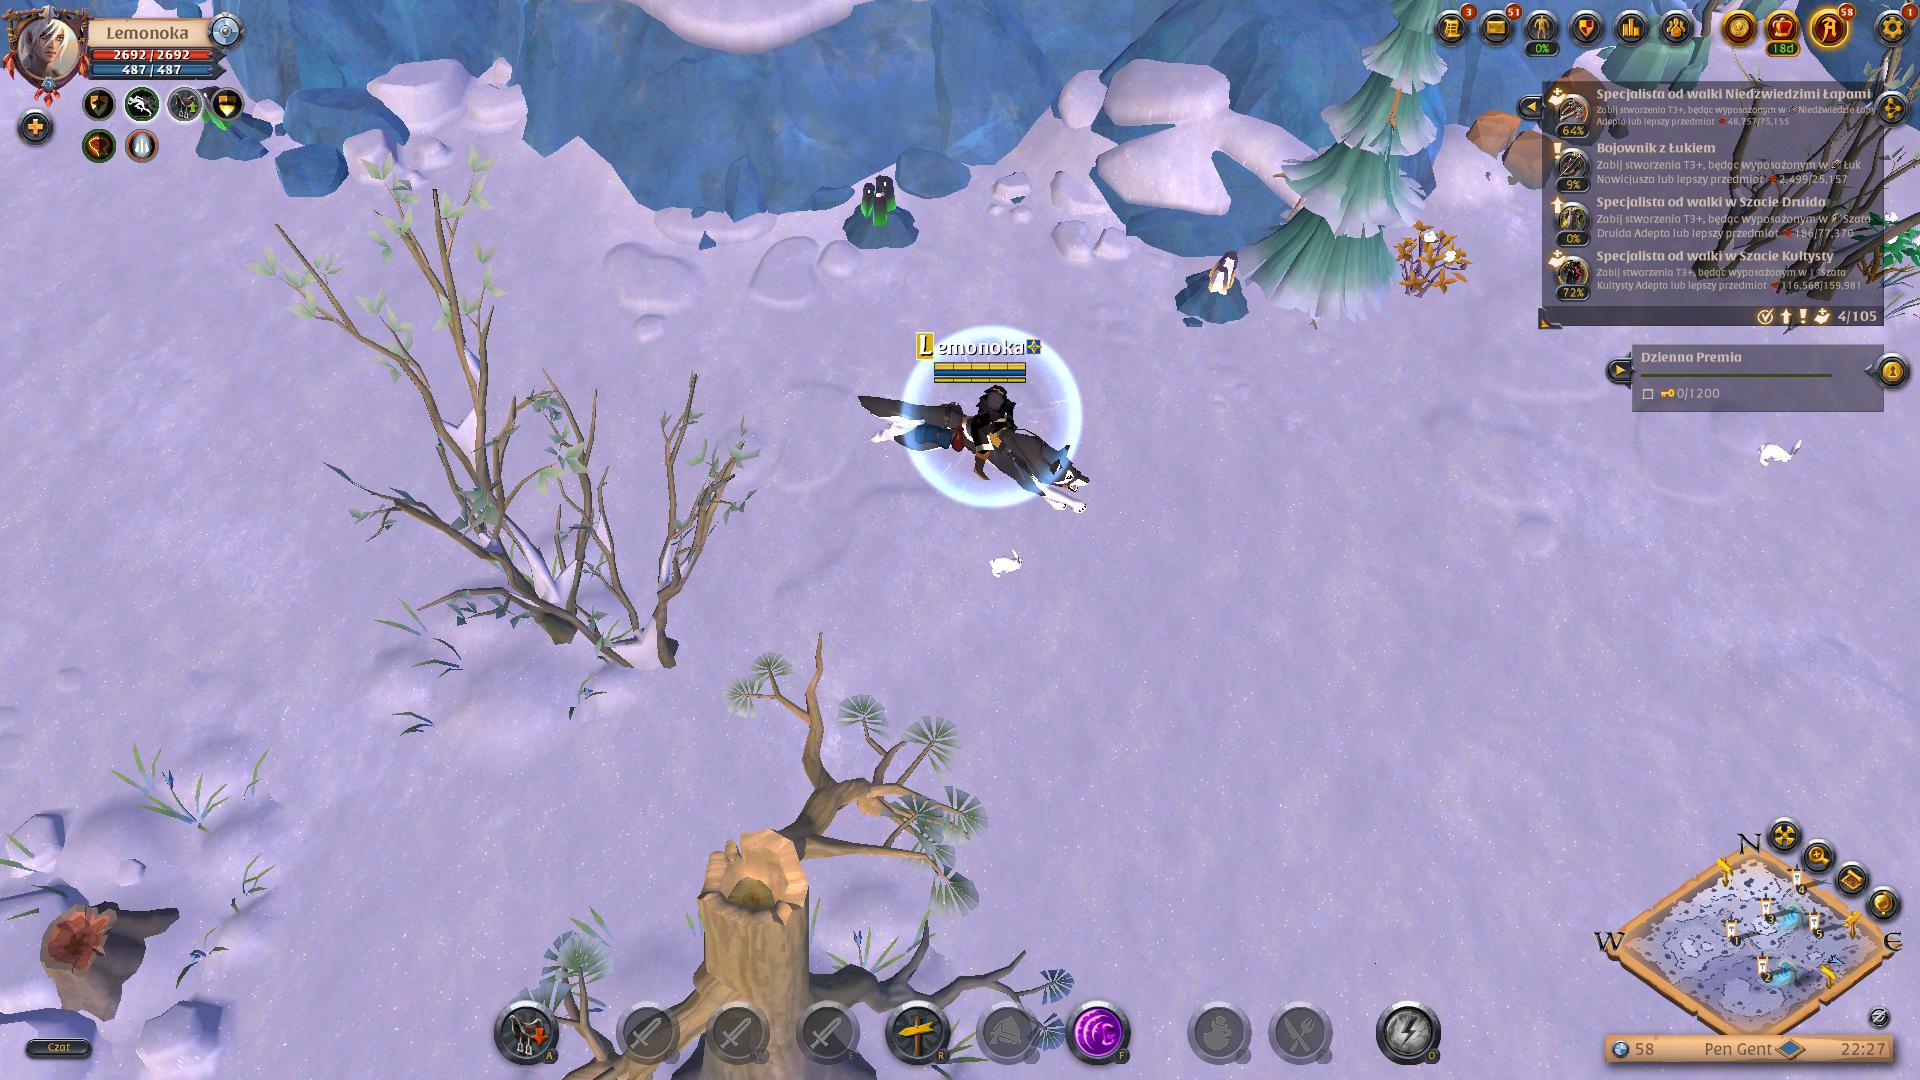fiber tier 2: (1394, 215, 1477, 311)
ore tier 2: (1176, 245, 1255, 334)
ore tier 3: (840, 169, 924, 258)
